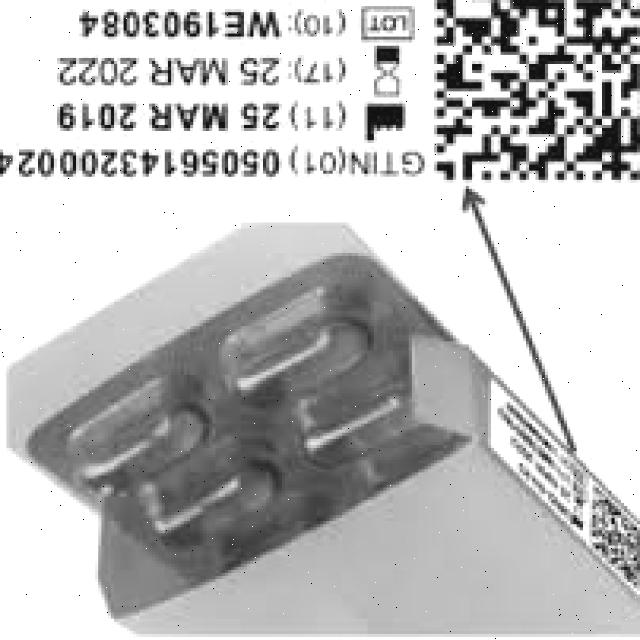datamatrix: (425, 0, 640, 189), (586, 478, 640, 592)
